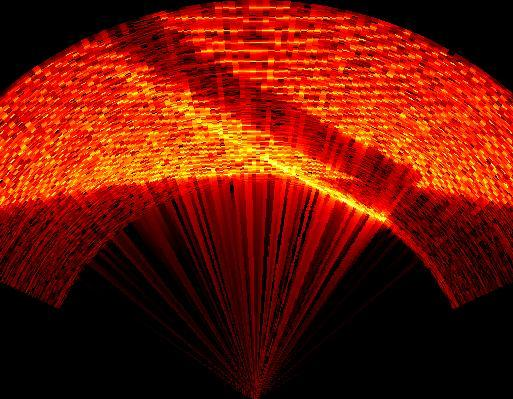pipe: (91, 18, 428, 228)
